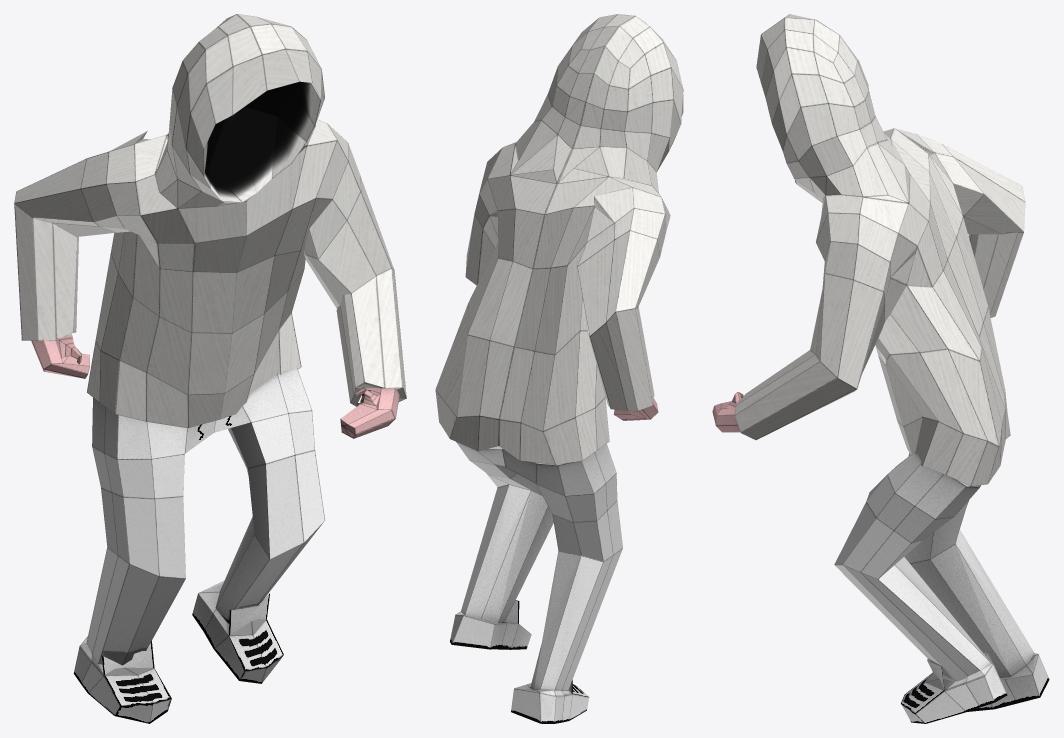
File: Shadowmanv_000012.obj
3 views of the same model, side by side, from view 1: azimuth 30°, elevation 25°; view 2: azimuth 150°, elevation 25°; view 3: azimuth 270°, elevation 25° (orthographic). The views are drawn at different scales.
Visible parts, largest first — view 1: Cube.000; view 2: Cube.000; view 3: Cube.000.
Boxes of the visible parts, bbox=[...] form: Cube.000: bbox=[14, 14, 406, 723]; Cube.000: bbox=[435, 14, 683, 723]; Cube.000: bbox=[712, 14, 1049, 723].
Bounding box in the file's own units: 4.58 × 11.15 × 4.88.
